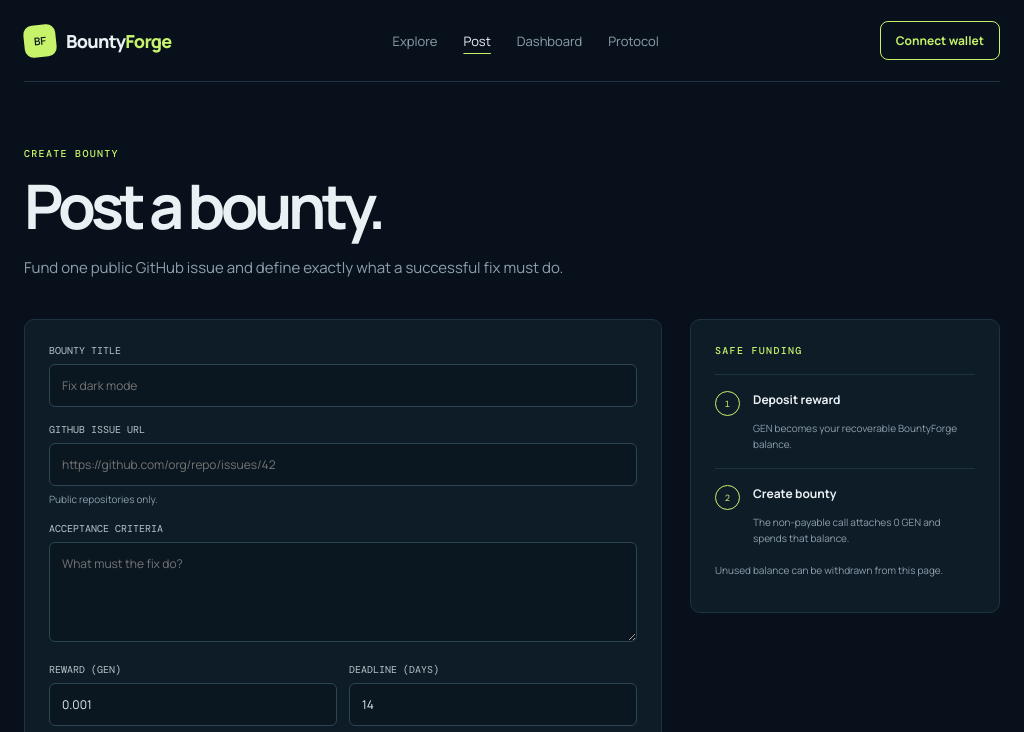
forms retain drafts and enforce policy › can withdraw unused credit with the connected wallet
Click the button "Connect wallet": (940, 40) [880,21,1000,60]
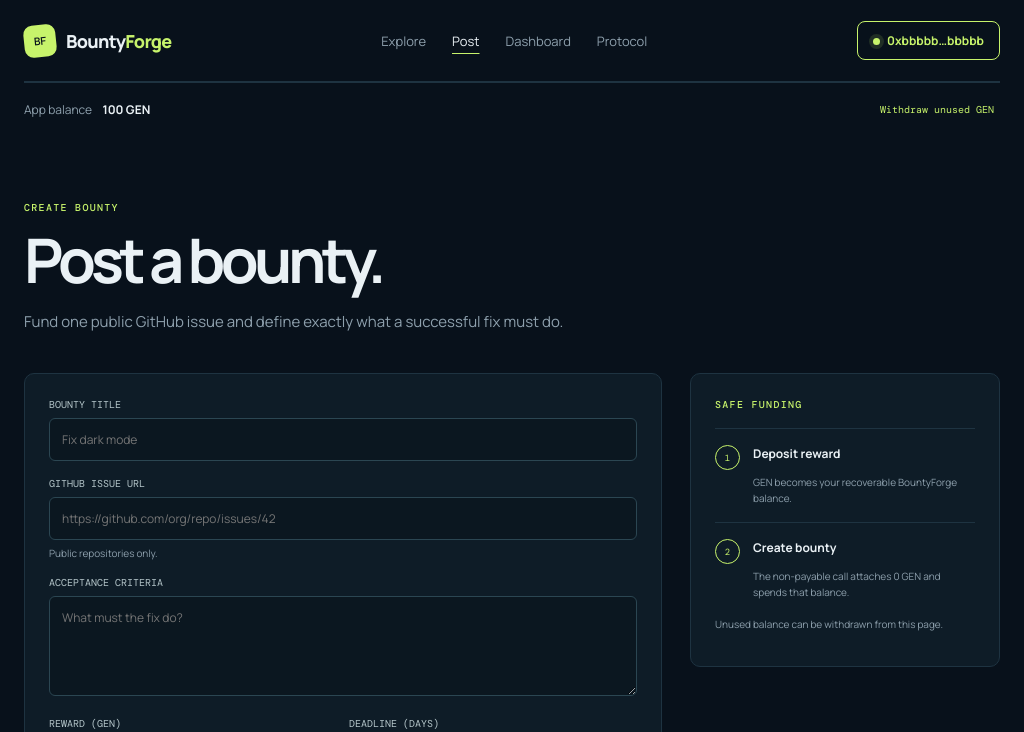
Check: the button with aria-label "Disconnect wallet" is shown, box [857,21,1000,60]
Click the button "Withdraw unused GEN": (937, 110) [874,102,1000,117]
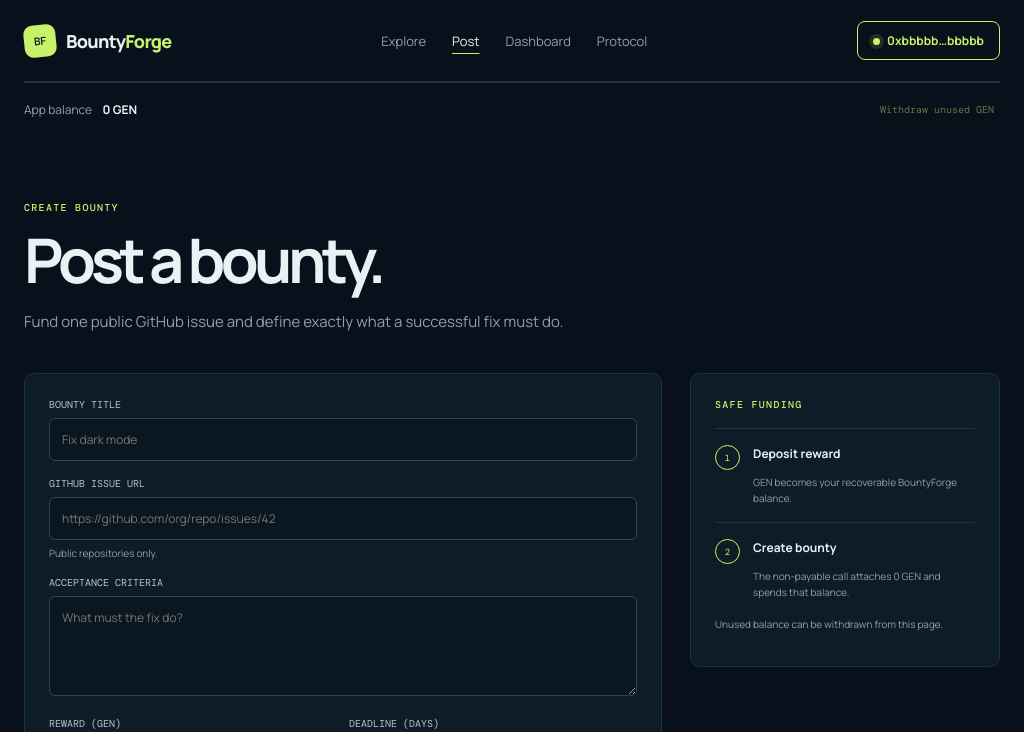
Check: the button "Withdraw unused GEN" is disabled, box [874,102,1000,117]
